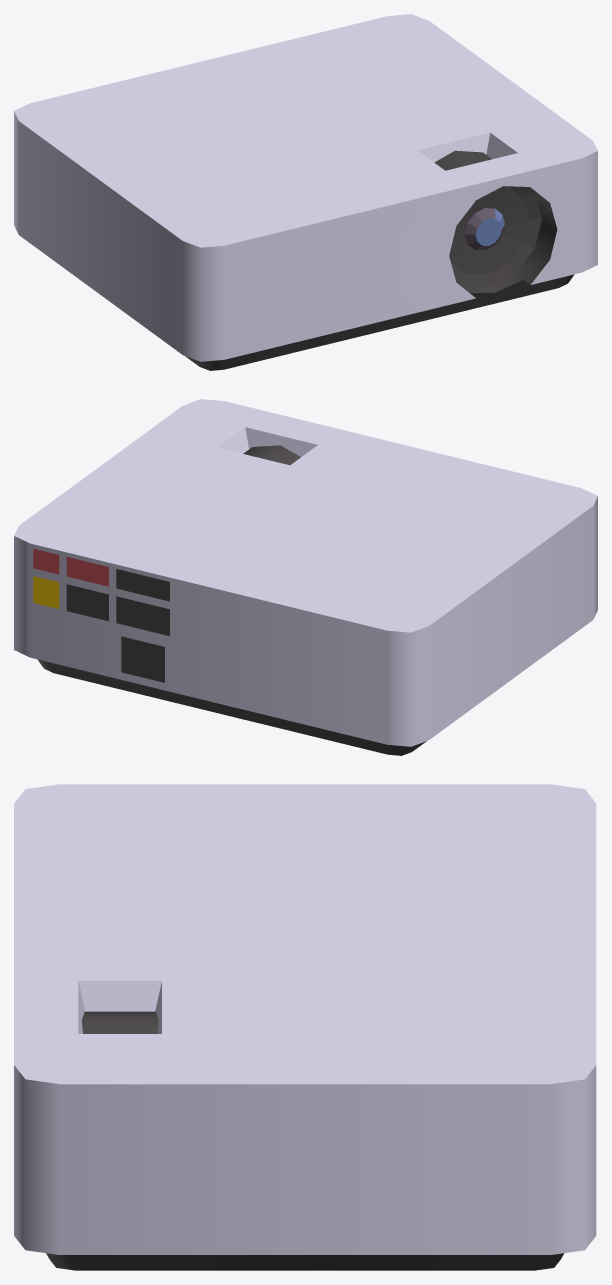
File: projector.fbx
3 renders of one model, top to bottom at view 1: azimuth 30°, elevation 25°; view 2: azimuth 150°, elevation 25°; view 3: azimuth 270°, elevation 25°, orthographic. The views are drawn at different scales.
Visible parts, largest first — view 1: projector; view 2: projector; view 3: projector.
Part boxes in pixels (<box>): projector: <box>14,14,597,370</box>; projector: <box>14,399,597,755</box>; projector: <box>14,784,596,1270</box>.
Size of the model in its own units: 21.55 by 6.8 by 17.73.
